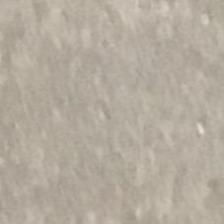Non_Crack: (20, 19, 224, 212)
